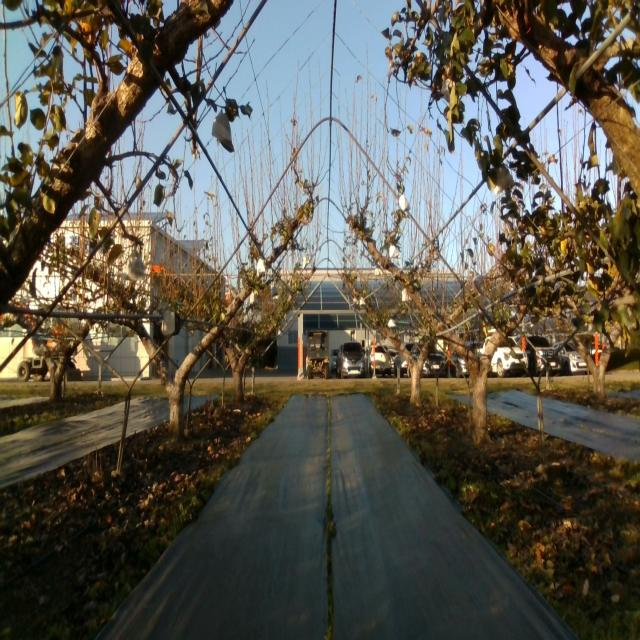pearbags: (212, 111, 235, 154), (121, 251, 146, 281), (494, 165, 514, 195)
